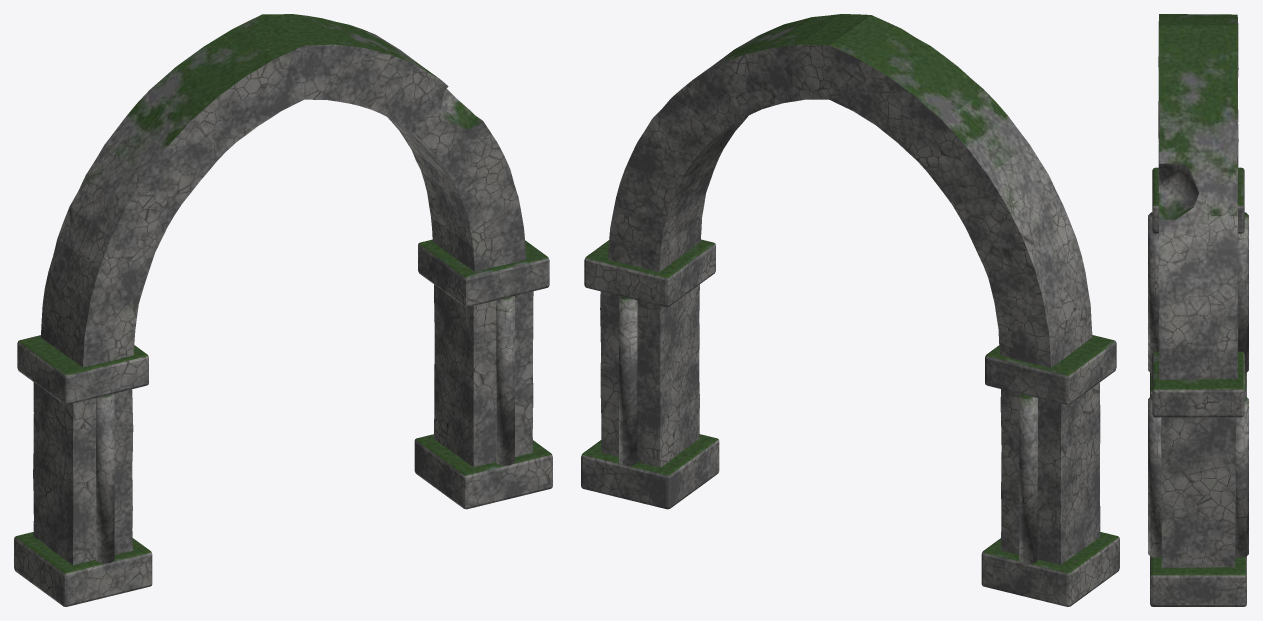
Rendered from gothic_arch.glb.
3 views of the same model, side by side, from view 1: azimuth 30°, elevation 25°; view 2: azimuth 150°, elevation 25°; view 3: azimuth 270°, elevation 25° (orthographic). The views are drawn at different scales.
Parts seen in each view (by area): view 1: gothic_arch; view 2: gothic_arch; view 3: gothic_arch.
Boxes of the visible parts, x1,y1,x2,y2 form: gothic_arch: [14, 14, 552, 606]; gothic_arch: [581, 14, 1119, 606]; gothic_arch: [1148, 14, 1248, 606].
Bounding box in the file's own units: 5.75 × 5.61 × 1.09.
1 material, 1 textured.
